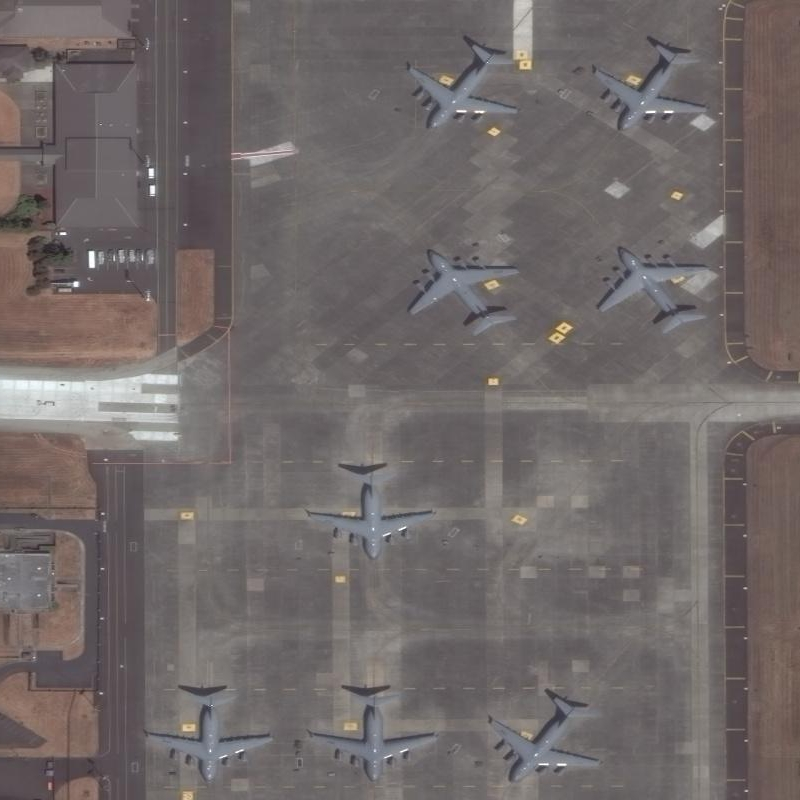A3: (304, 678, 443, 788), (137, 678, 276, 787), (304, 454, 441, 564), (582, 30, 710, 141), (398, 34, 524, 135), (400, 240, 527, 339), (589, 237, 717, 335), (486, 687, 604, 790)
